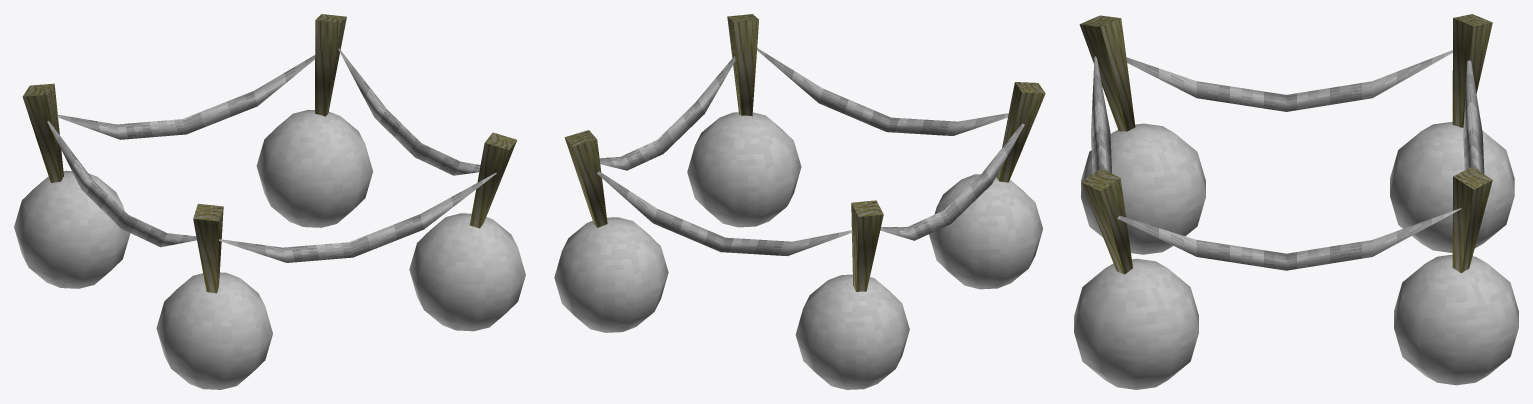
Rendered from buildplace_water.obj.
3 renders of one model, left to right at view 1: azimuth 30°, elevation 25°; view 2: azimuth 150°, elevation 25°; view 3: azimuth 270°, elevation 25°, orthographic. The views are drawn at different scales.
Parts seen in each view (by area): view 1: Duplicate03, Duplicate02, Sphere02, Duplicate01, Duplicate07, Duplicate06, Duplicate05, Cylinder03, Box01, Duplicate04; view 2: Duplicate03, Duplicate02, Sphere02, Duplicate01, Duplicate06, Duplicate07, Duplicate05, Cylinder03, Box01, Duplicate04; view 3: Duplicate03, Duplicate02, Sphere02, Duplicate01, Cylinder03, Duplicate05, Duplicate04, Box01, Duplicate07, Duplicate06.
Boxes of the visible parts, x1,y1,x2,y2 form: Duplicate03: [409, 132, 525, 331]; Duplicate02: [156, 203, 272, 389]; Sphere02: [256, 110, 372, 227]; Duplicate01: [14, 170, 130, 288]; Duplicate07: [219, 173, 496, 262]; Duplicate06: [57, 55, 315, 139]; Duplicate05: [47, 121, 196, 247]; Cylinder03: [338, 48, 480, 175]; Box01: [22, 83, 63, 182]; Duplicate04: [315, 14, 346, 116]; Duplicate03: [687, 14, 801, 227]; Duplicate02: [929, 82, 1045, 289]; Sphere02: [554, 217, 668, 332]; Duplicate01: [795, 274, 909, 389]; Duplicate06: [597, 171, 852, 256]; Duplicate07: [757, 48, 1008, 135]; Duplicate05: [880, 123, 1024, 240]; Cylinder03: [599, 56, 735, 170]; Box01: [851, 200, 883, 291]; Duplicate04: [564, 130, 607, 227]; Duplicate03: [1074, 168, 1198, 389]; Duplicate02: [1079, 15, 1205, 254]; Sphere02: [1394, 254, 1518, 385]; Duplicate01: [1390, 121, 1514, 252]; Cylinder03: [1117, 208, 1461, 270]; Duplicate05: [1126, 50, 1452, 111]; Duplicate04: [1452, 167, 1492, 273]; Box01: [1452, 14, 1492, 127]; Duplicate07: [1091, 56, 1111, 207]; Duplicate06: [1463, 60, 1484, 173].
Size of the model in its own units: 55.07 by 29.08 by 54.
